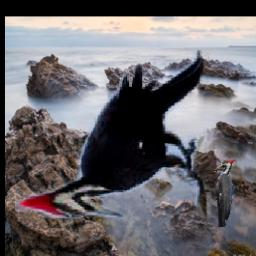Woodpecker: (15, 50, 211, 218), (213, 159, 236, 228)
